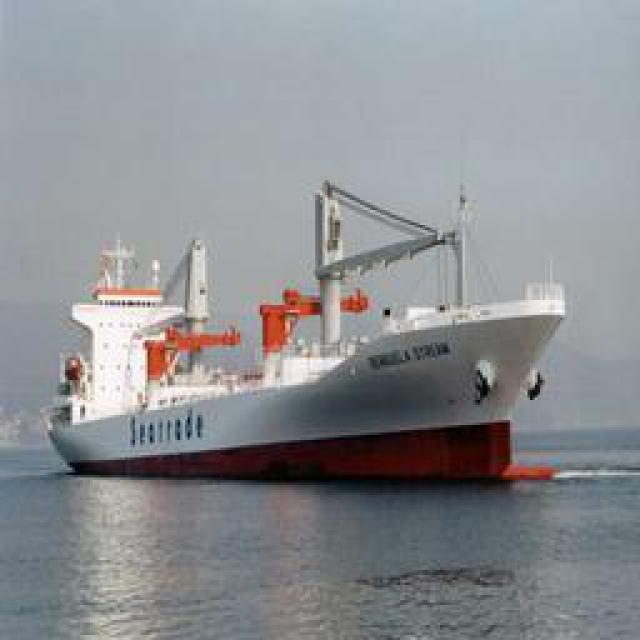Ship: (37, 253, 567, 488)
